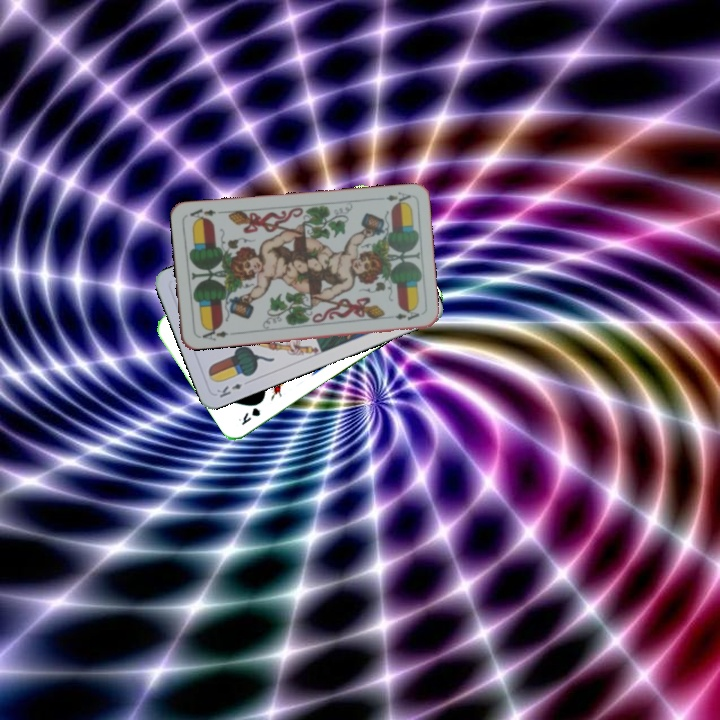EA: (199, 323, 231, 343), (382, 188, 413, 207)
EK: (213, 376, 253, 401)
GK: (234, 403, 263, 428)
